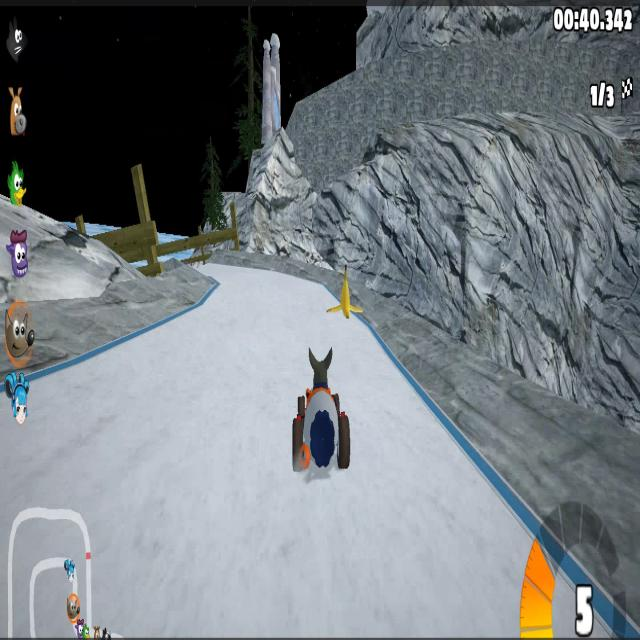obstacle: (319, 268, 371, 332)
player_kart: (295, 348, 347, 468)
track: (5, 461, 500, 631), (182, 321, 292, 444), (2, 386, 181, 461), (66, 367, 182, 440), (351, 341, 402, 465), (218, 278, 314, 321), (186, 429, 277, 466), (405, 389, 445, 463), (140, 336, 180, 383), (231, 259, 273, 293), (193, 252, 228, 284)
